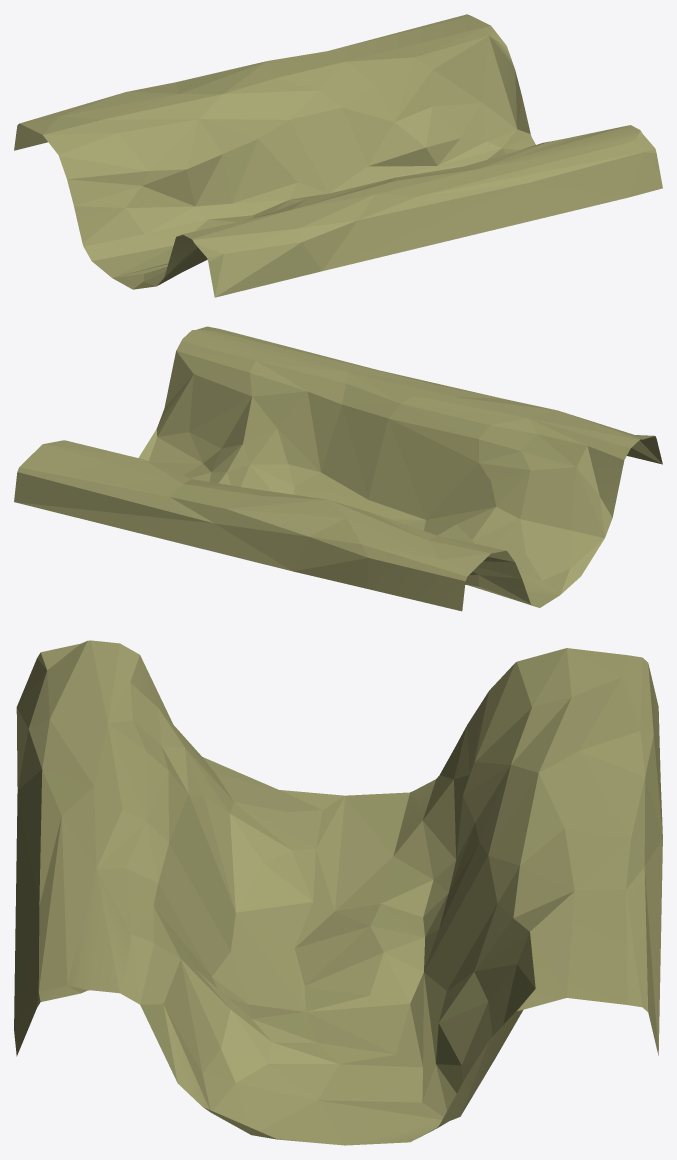
The picture shows the model from 3 angles, top to bottom: view 1: azimuth 30°, elevation 25°; view 2: azimuth 150°, elevation 25°; view 3: azimuth 270°, elevation 25°; orthographic projection. The views are drawn at different scales.
Parts seen in each view (by area): view 1: polySurface16; view 2: polySurface16; view 3: polySurface16.
Part boxes in pixels (<box>): polySurface16: <box>14,14,662,297</box>; polySurface16: <box>14,326,662,611</box>; polySurface16: <box>14,640,662,1145</box>.
Size of the model in its own units: 1306 by 274 by 1024.
